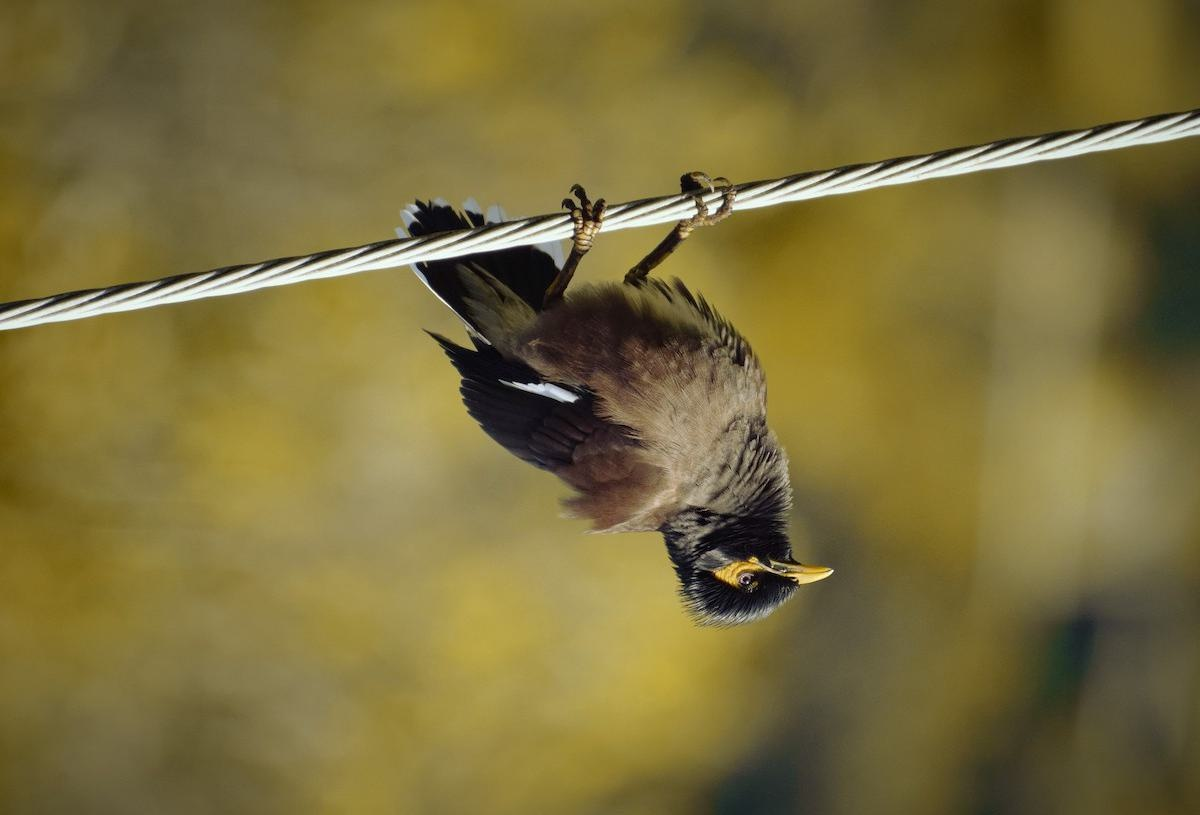myna: (431, 169, 846, 648)
